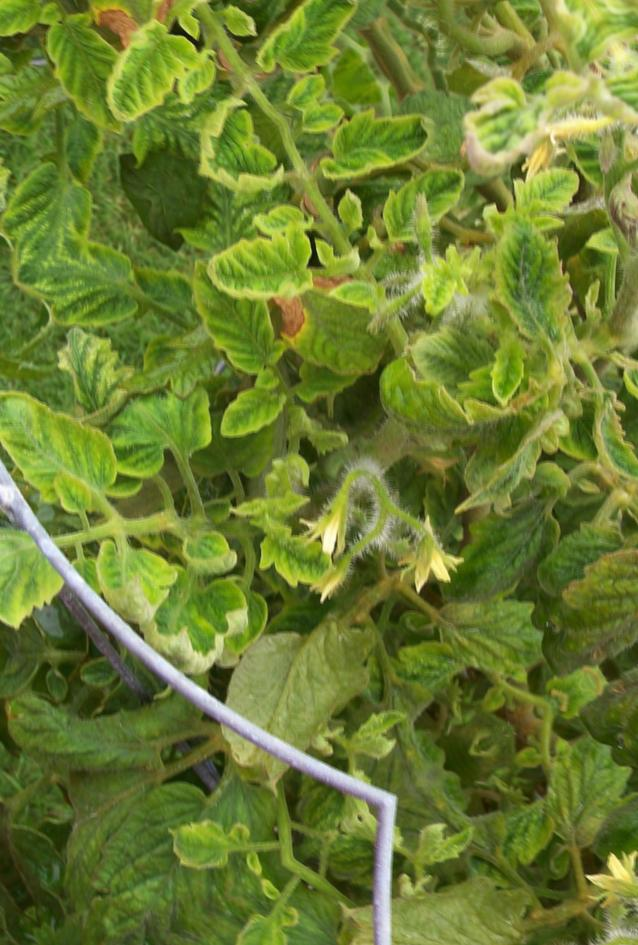Tomato leaf yellow virus: (453, 180, 632, 388), (189, 181, 362, 344), (0, 350, 145, 538), (159, 215, 298, 392), (0, 475, 107, 678), (397, 302, 536, 444), (305, 83, 452, 209), (65, 505, 195, 645), (158, 774, 292, 897), (480, 145, 604, 252), (175, 132, 296, 233), (368, 152, 487, 254), (203, 357, 319, 458), (246, 491, 346, 602), (613, 306, 638, 479)
